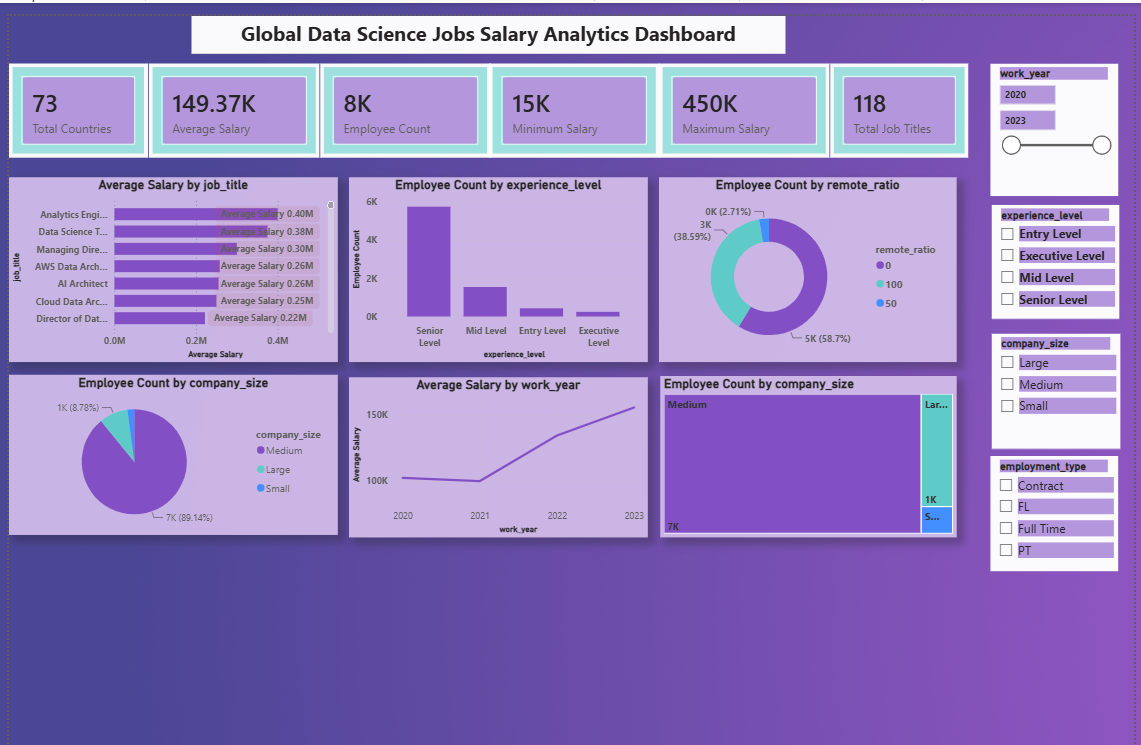

Layout of this report page (visuals, bound fields, positions):
{"tool":"powerbi","page":{"name":"Executive Dashboard","canvas":[1500,1000],"ordinal":2},"visuals":[{"type":"textbox","box":[243.5,0,791.9,50],"z":0},{"type":"cardVisual","fields":{"Data":["salaries.Average Salary"]},"box":[187.1,62.9,227.1,125.7],"z":1000},{"type":"cardVisual","fields":{"Data":["salaries.Total Countries"]},"box":[0,62.9,185.7,125.7],"z":2000},{"type":"cardVisual","fields":{"Data":["salaries.Employee Count"]},"box":[414.3,62.9,227.1,125.7],"z":3000},{"type":"cardVisual","fields":{"Data":["salaries.Maximum Salary"]},"box":[867.1,62.9,227.1,125.7],"z":4000},{"type":"cardVisual","fields":{"Data":["salaries.Total Job Titles"]},"box":[1094.3,62.9,184.3,125.7],"z":5000},{"type":"cardVisual","fields":{"Data":["salaries.Minimum Salary"]},"box":[640,62.9,227.1,125.7],"z":6000},{"type":"clusteredBarChart","fields":{"Category":["salaries.job_title"],"Y":["salaries.Average Salary"]},"box":[0,215,438.3,246.7],"z":7000},{"type":"columnChart","fields":{"Category":["salaries.experience_level"],"Y":["salaries.Employee Count"]},"box":[453.3,215,398.3,246.7],"z":8000},{"type":"pieChart","fields":{"Category":["salaries.company_size"],"Y":["salaries.Employee Count"]},"box":[0,478.3,438.3,213.3],"z":9000},{"type":"lineChart","fields":{"Category":["salaries.work_year"],"Y":["salaries.Average Salary"]},"box":[453.3,481.7,398.3,213.3],"z":10000},{"type":"donutChart","fields":{"Category":["salaries.remote_ratio"],"Y":["salaries.Employee Count"]},"box":[866.7,215,396.7,246.7],"z":11000},{"type":"treemap","fields":{"Group":["salaries.company_size"],"Values":["salaries.Employee Count"]},"box":[868.3,480,395,215],"z":12000},{"type":"slicer","fields":{"Values":["salaries.work_year"]},"box":[1308.3,63.3,170,176.7],"z":13000},{"type":"slicer","fields":{"Values":["salaries.experience_level"]},"box":[1310,251.7,170,151.7],"z":14000},{"type":"slicer","fields":{"Values":["salaries.company_size"]},"box":[1310,423.3,171.7,153.3],"z":15000},{"type":"slicer","fields":{"Values":["salaries.employment_type"]},"box":[1308.3,586.7,170,153.3],"z":16000}]}

Visuals, with their boxes in screenshot pixels (x1, y1, x2, y2), scaled from the page's 1500x1000 canvas onto the 1141x745 screenshot:
textbox: BBox(185, 0, 788, 37)
cardVisual - salaries.Average Salary: BBox(142, 47, 315, 141)
cardVisual - salaries.Total Countries: BBox(0, 47, 141, 141)
cardVisual - salaries.Employee Count: BBox(315, 47, 488, 141)
cardVisual - salaries.Maximum Salary: BBox(660, 47, 832, 141)
cardVisual - salaries.Total Job Titles: BBox(832, 47, 973, 141)
cardVisual - salaries.Minimum Salary: BBox(487, 47, 660, 141)
clusteredBarChart - salaries.job_title x salaries.Average Salary: BBox(0, 160, 333, 344)
columnChart - salaries.experience_level x salaries.Employee Count: BBox(345, 160, 648, 344)
pieChart - salaries.company_size x salaries.Employee Count: BBox(0, 356, 333, 515)
lineChart - salaries.work_year x salaries.Average Salary: BBox(345, 359, 648, 518)
donutChart - salaries.remote_ratio x salaries.Employee Count: BBox(659, 160, 961, 344)
treemap - salaries.company_size x salaries.Employee Count: BBox(660, 358, 961, 518)
slicer - salaries.work_year: BBox(995, 47, 1124, 179)
slicer - salaries.experience_level: BBox(996, 188, 1126, 301)
slicer - salaries.company_size: BBox(996, 315, 1127, 430)
slicer - salaries.employment_type: BBox(995, 437, 1124, 551)
